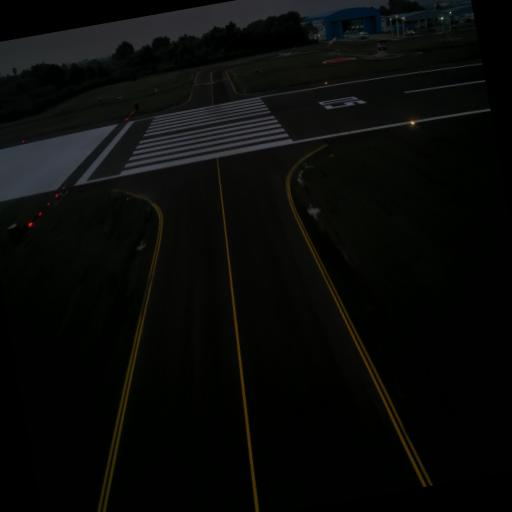on: (406, 114, 416, 130), (138, 237, 146, 248), (26, 219, 34, 228), (36, 208, 43, 218), (302, 158, 308, 168), (45, 200, 51, 208), (124, 194, 130, 202), (54, 192, 59, 198), (62, 186, 66, 192)
